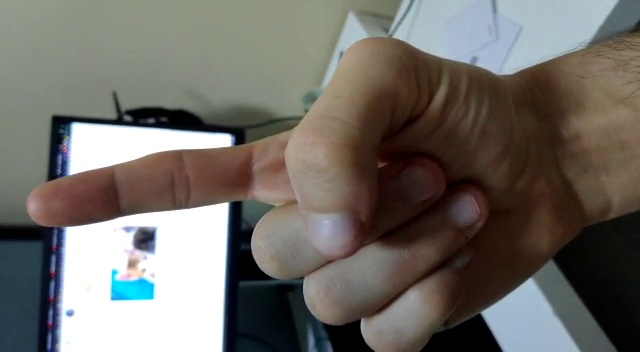One: (12, 19, 598, 349)
